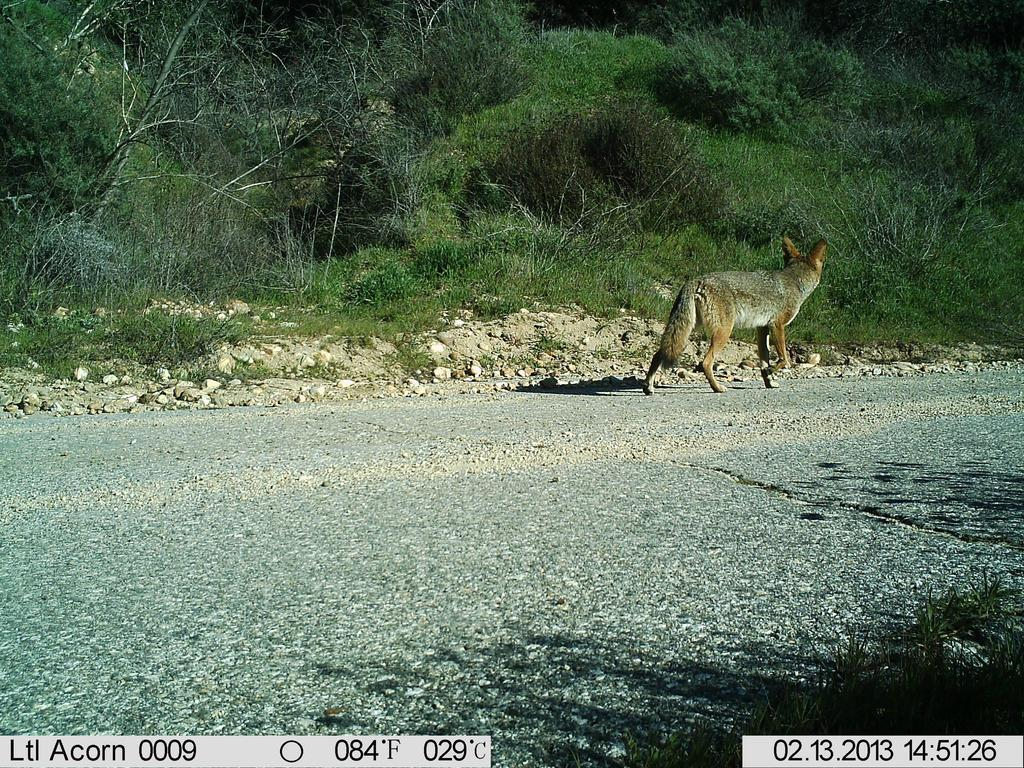coyote: (642, 229, 833, 399)
